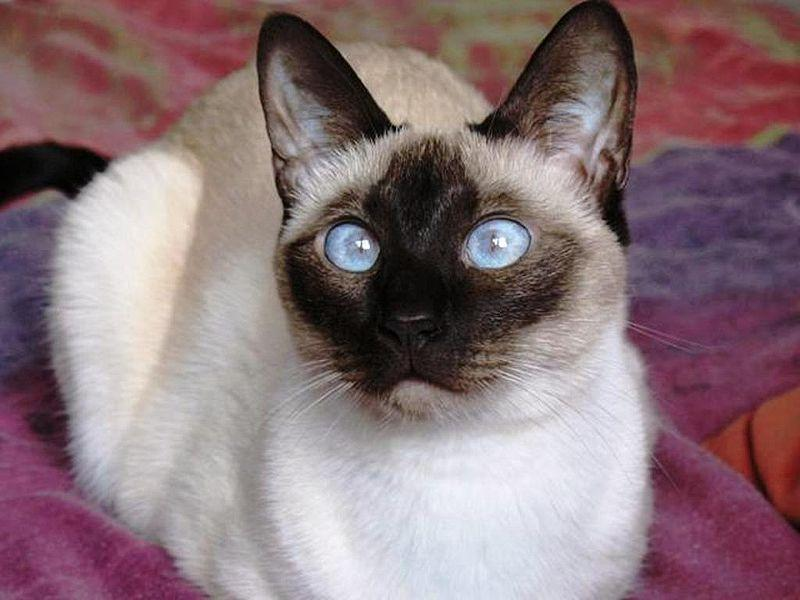siamese: (247, 6, 644, 424)
